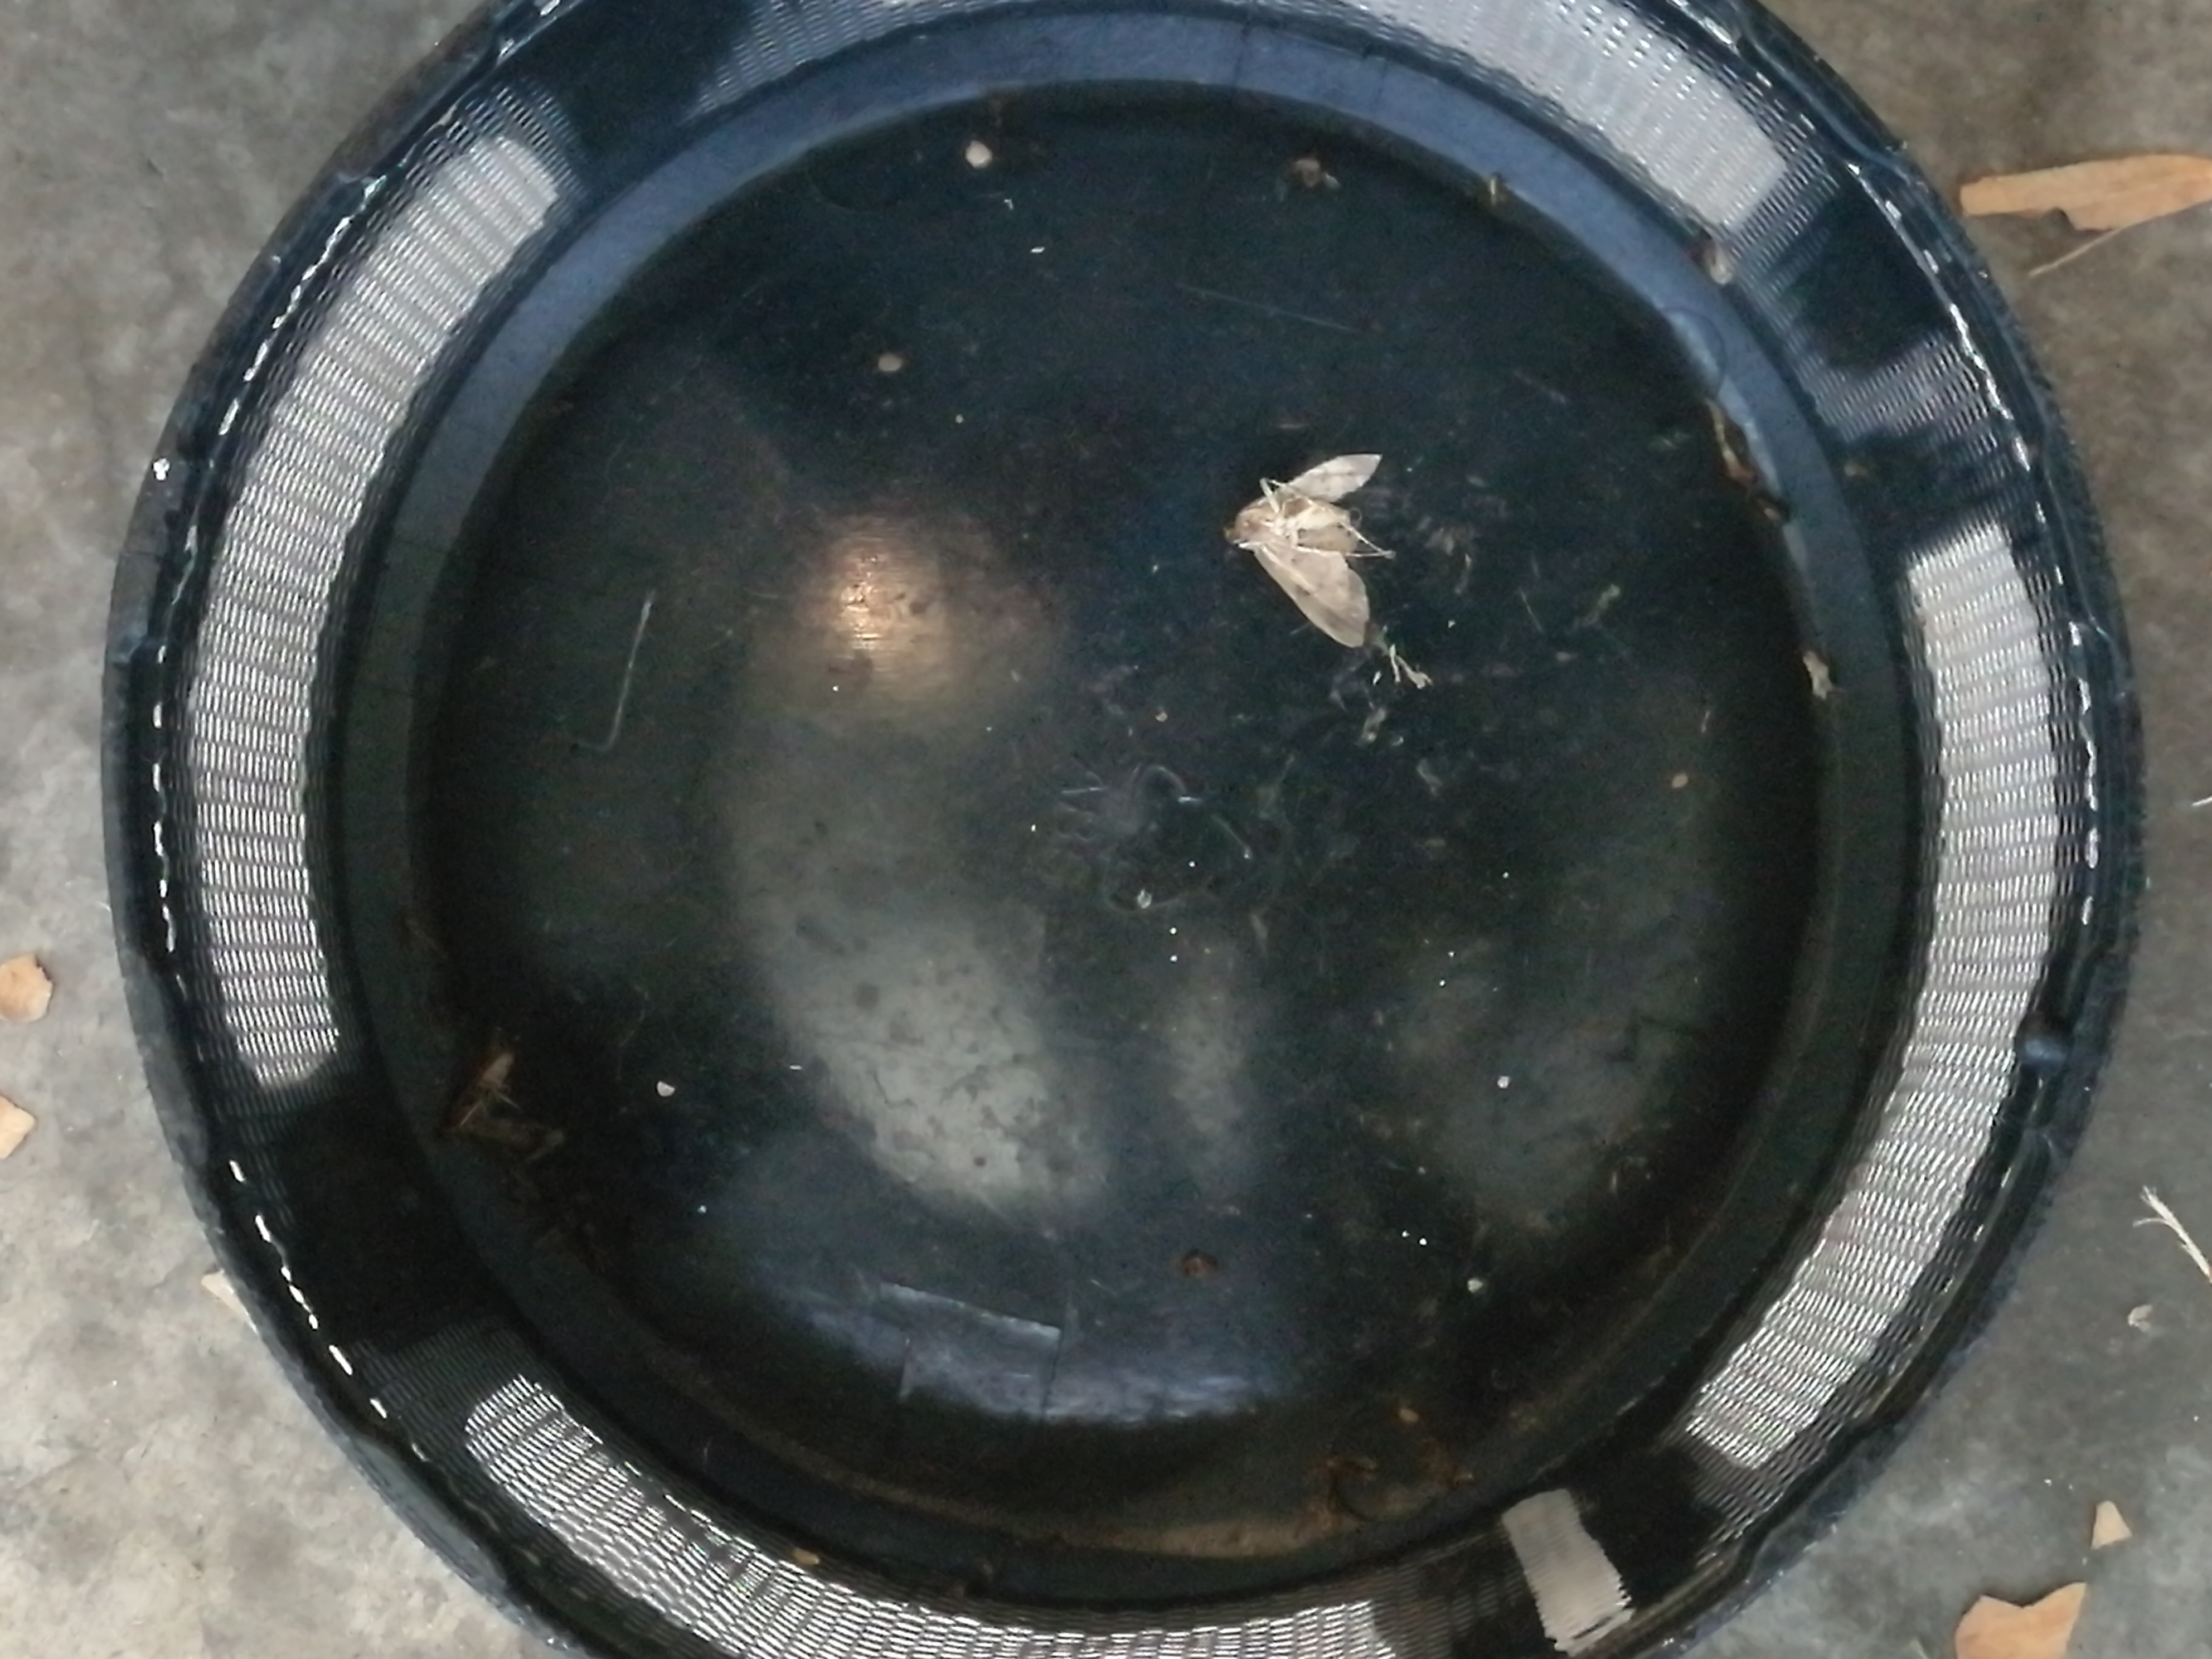moth: (1226, 451, 1379, 648), (444, 1054, 547, 1145)
